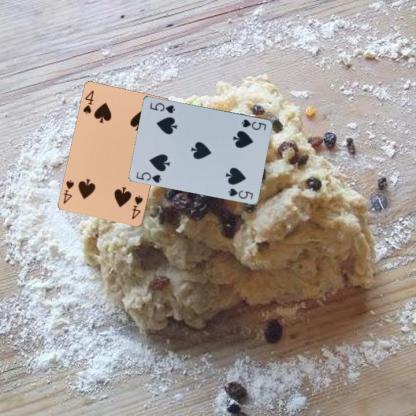4s: (80, 88, 96, 115), (129, 193, 144, 221)
5s: (239, 116, 268, 132), (133, 169, 163, 184)
